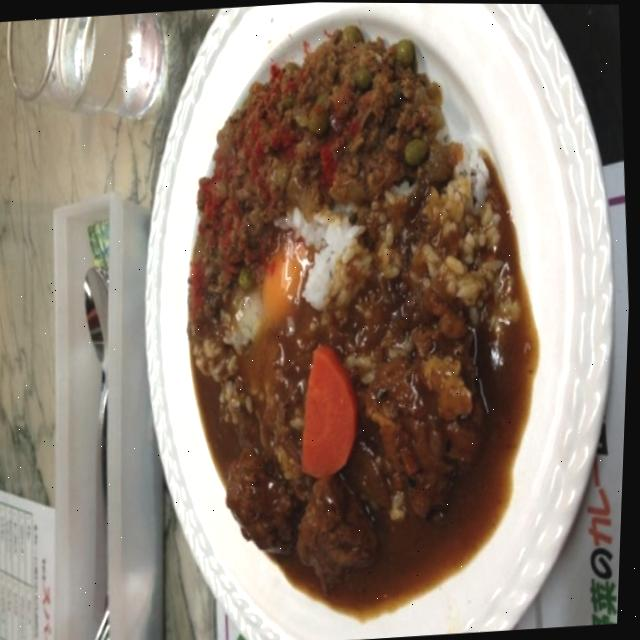刺身生食: (38, 0, 640, 601)
